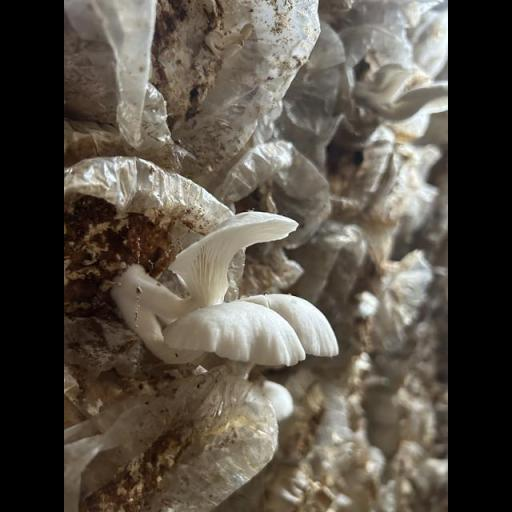White Oyster Mushroom: (110, 201, 343, 382)
